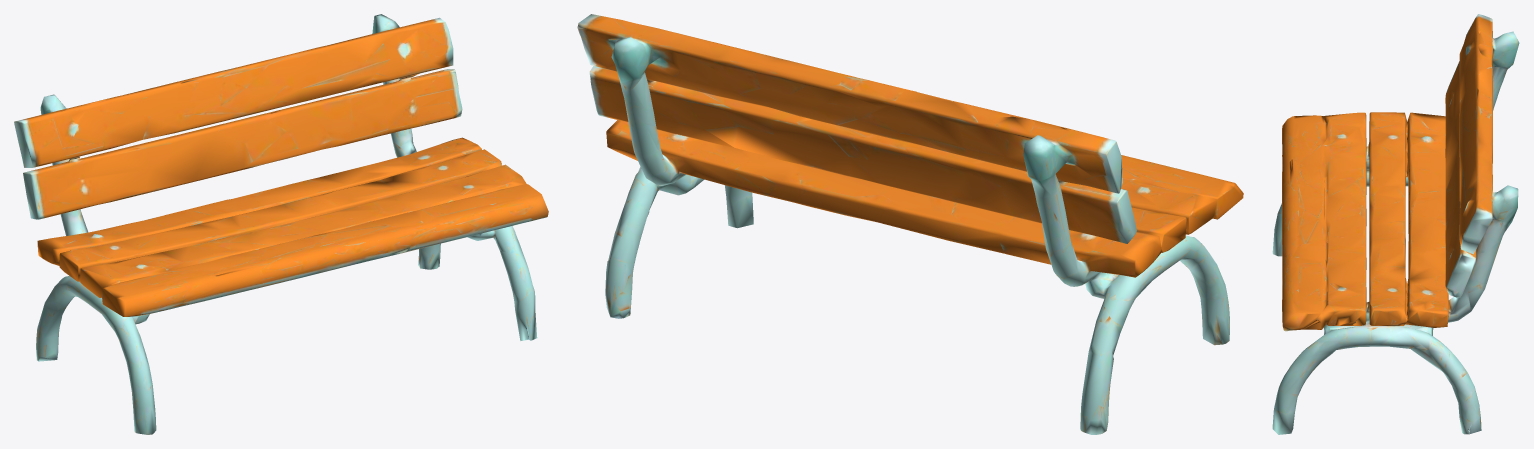
The model's file is prop-bench.glb.
The picture shows the model from 3 angles, left to right: view 1: azimuth 30°, elevation 25°; view 2: azimuth 150°, elevation 25°; view 3: azimuth 270°, elevation 25°; orthographic projection. The views are drawn at different scales.
Bounding box in the file's own units: 1.91 × 1.05 × 1.01.
Materials: 1 (1 with a texture image).
